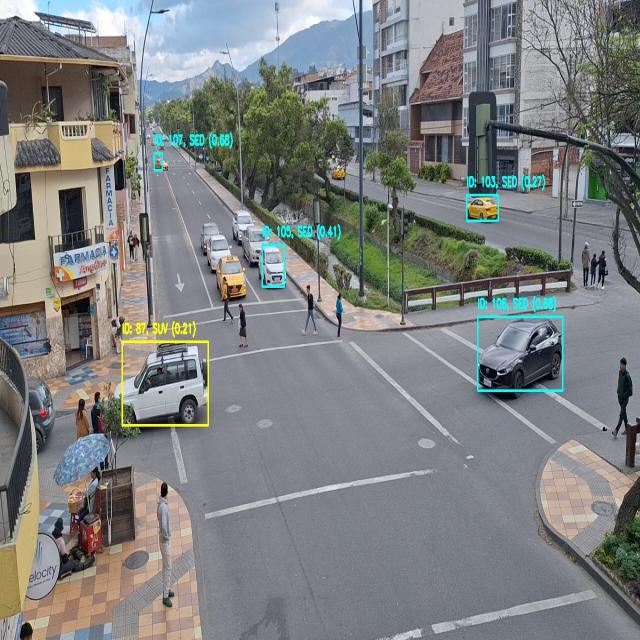CMT: (243, 227, 264, 265)
SED: (477, 319, 561, 393), (218, 255, 248, 298), (260, 246, 286, 288), (207, 235, 230, 272), (468, 197, 499, 221)
SUV: (121, 346, 206, 426), (234, 210, 254, 243)
